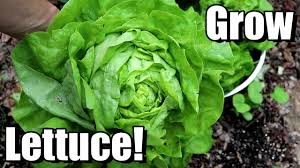lettuce: (33, 7, 226, 156)
